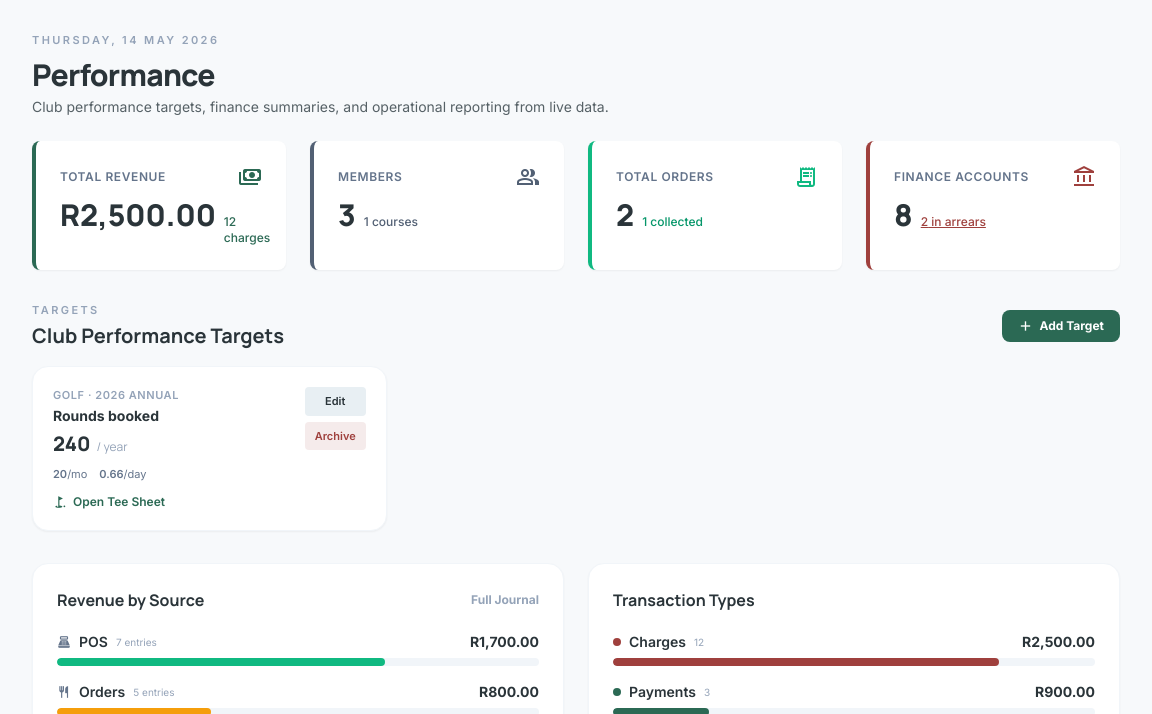
Test case: AdminReportsPage (Performance hub) › Add Target button reveals the inline create form with catalog dropdowns
Expected: the button "create target" is not shown
Click the button "Add Target": (1061, 326) [1002,310,1120,342]
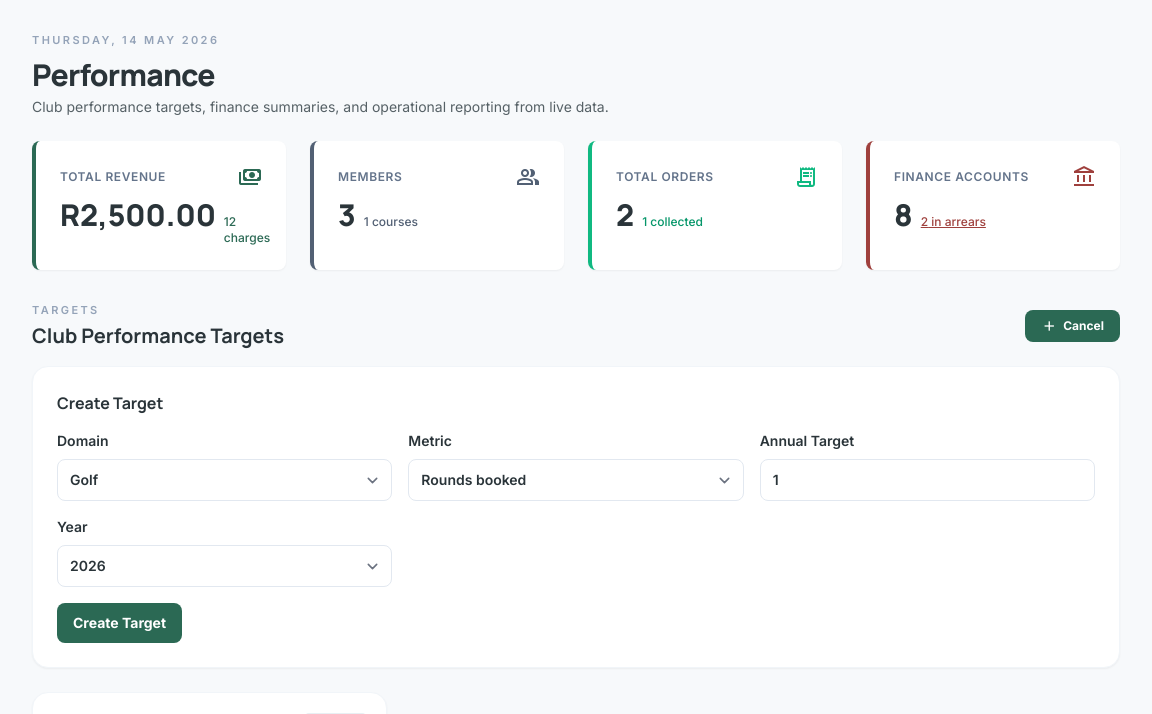
Now the button "Create Target" is shown, box [57,603,182,643]
Now the dropdown labelled "Domain" is shown, box [57,459,392,501]
Now the dropdown labelled "Metric" is shown, box [408,459,744,501]
